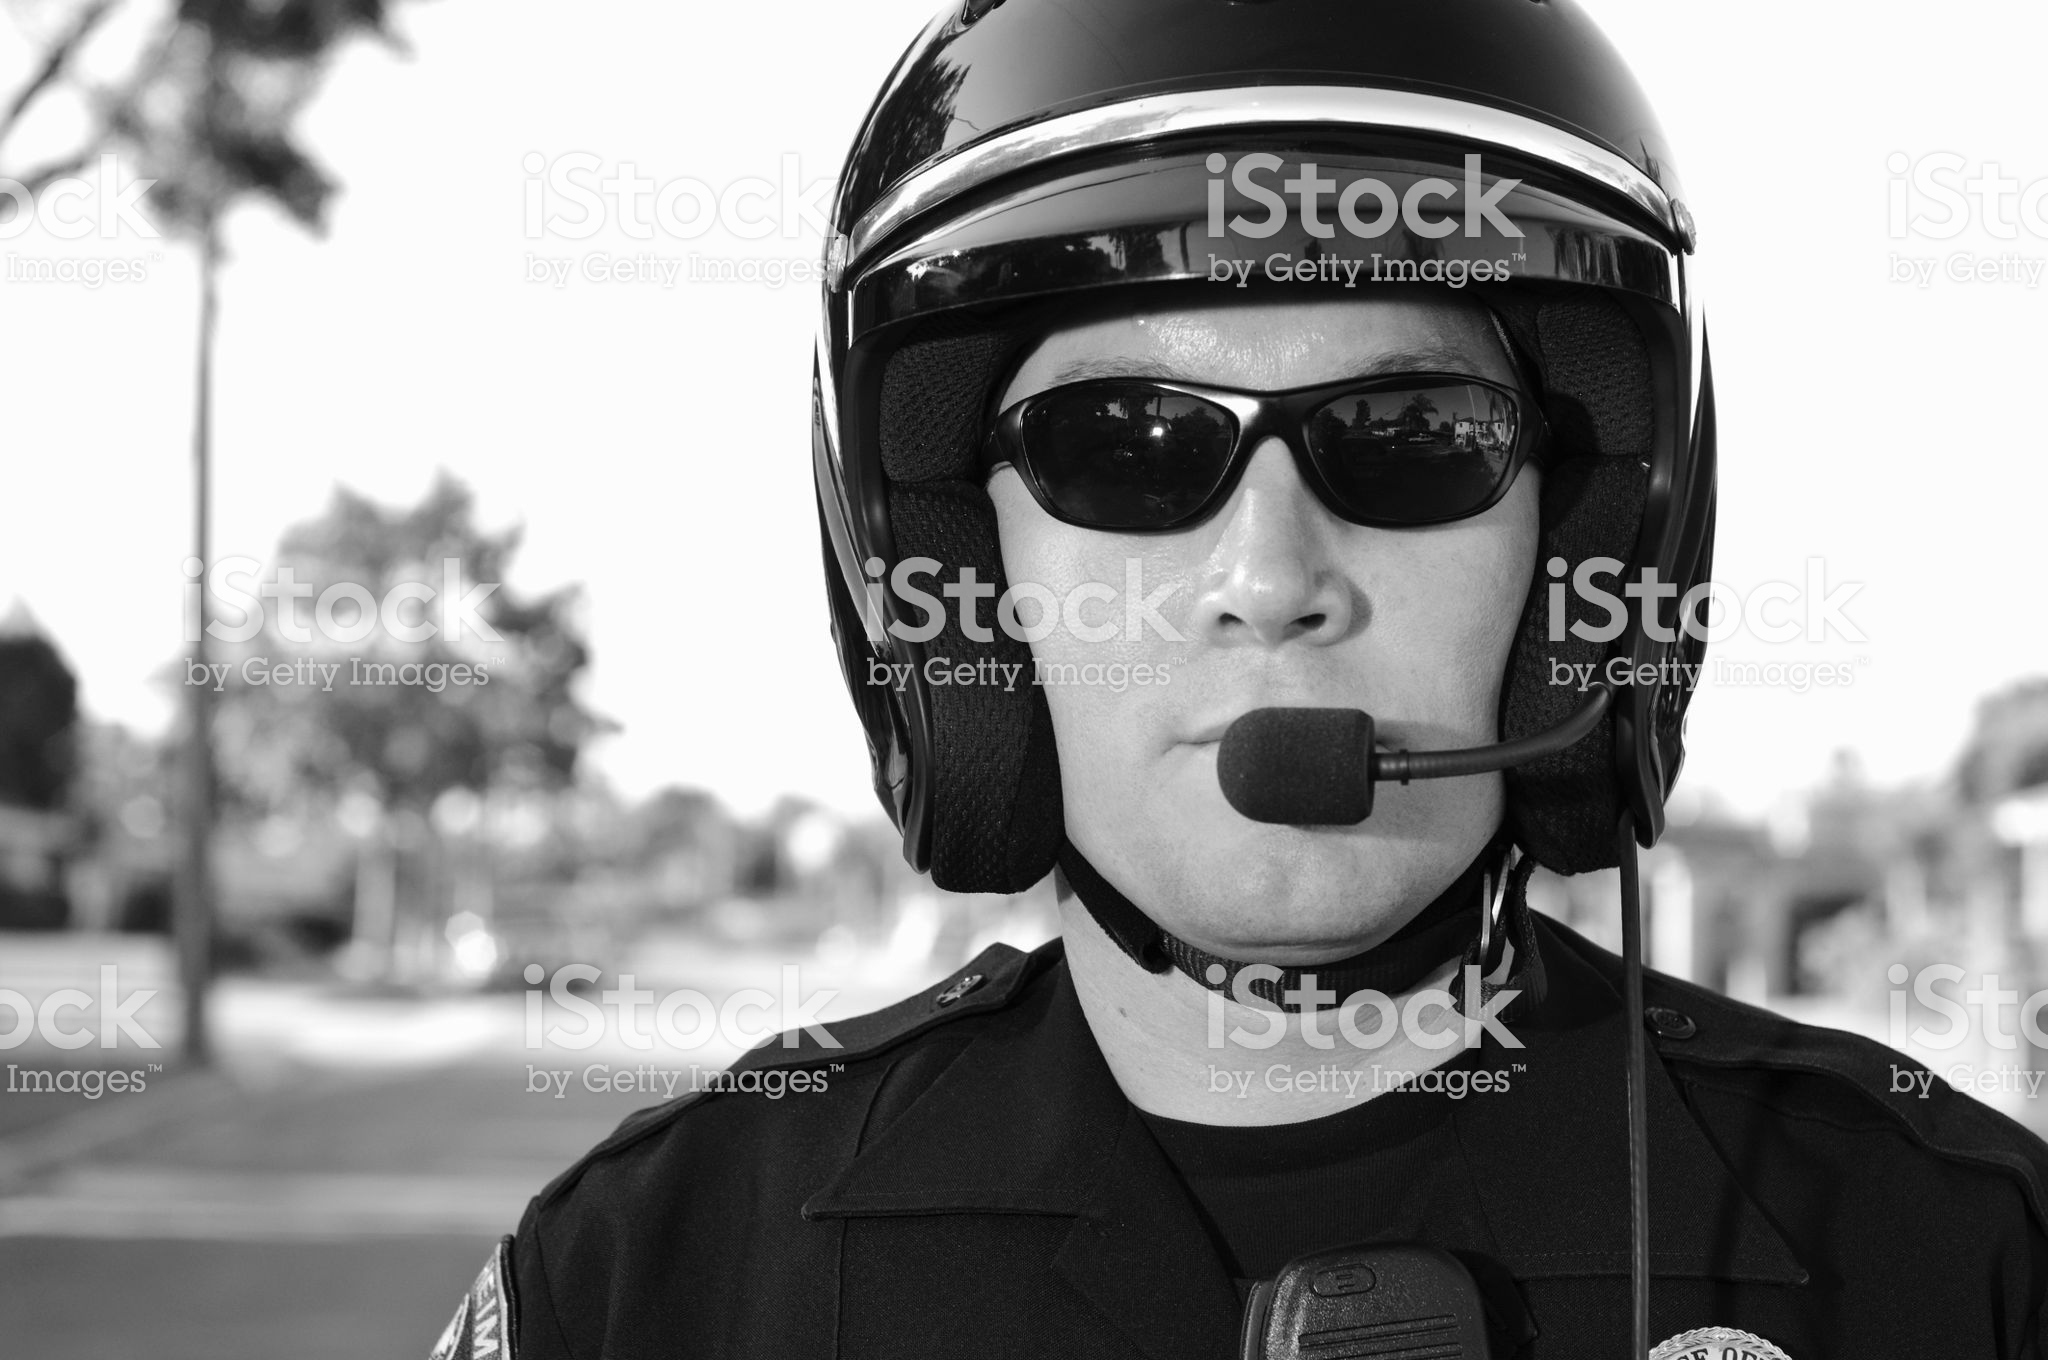helmet: (787, 20, 1695, 911)
